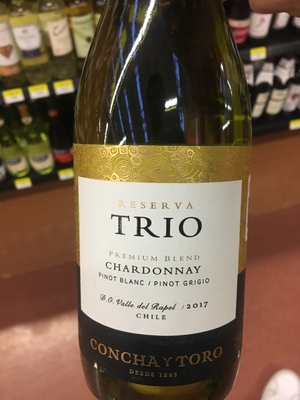trio chardonnay: (65, 12, 263, 398)
